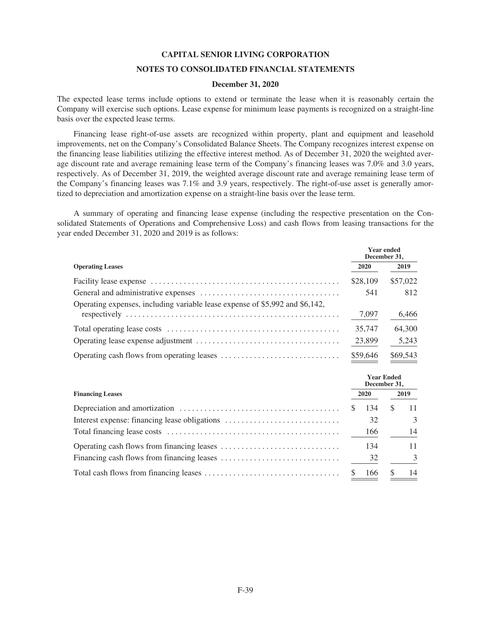box: (71, 247, 421, 369), (72, 374, 421, 485)
